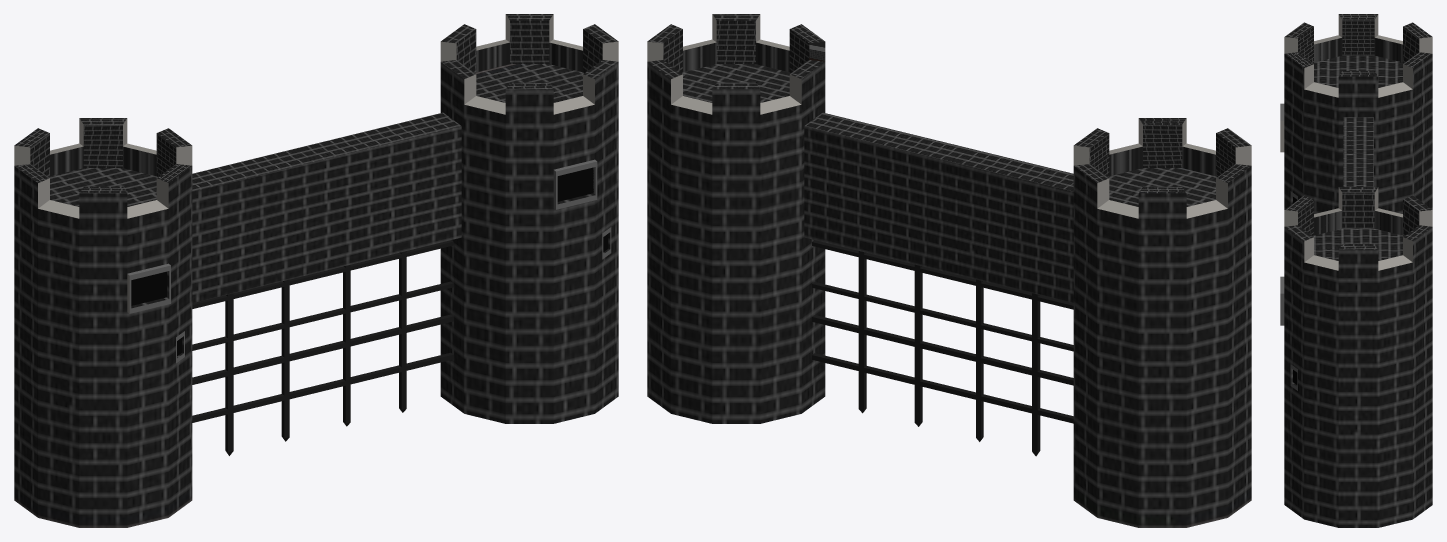
Rendered from SM_BlockTower_02.fbx.
3 renders of one model, left to right at view 1: azimuth 30°, elevation 25°; view 2: azimuth 150°, elevation 25°; view 3: azimuth 270°, elevation 25°, orthographic. The views are drawn at different scales.
Visible parts, largest first — view 1: Cube, Plane; view 2: Cube, Plane; view 3: Cube.
Boxes of the visible parts, x1=… form: Cube: x1=14, y1=14, x2=618, y2=527; Plane: x1=192, y1=240, x2=453, y2=455; Cube: x1=647, y1=14, x2=1251, y2=527; Plane: x1=812, y1=240, x2=1073, y2=456; Cube: x1=1280, y1=14, x2=1432, y2=527.
Size of the model in its own units: 10.9 by 6 by 2.98.
